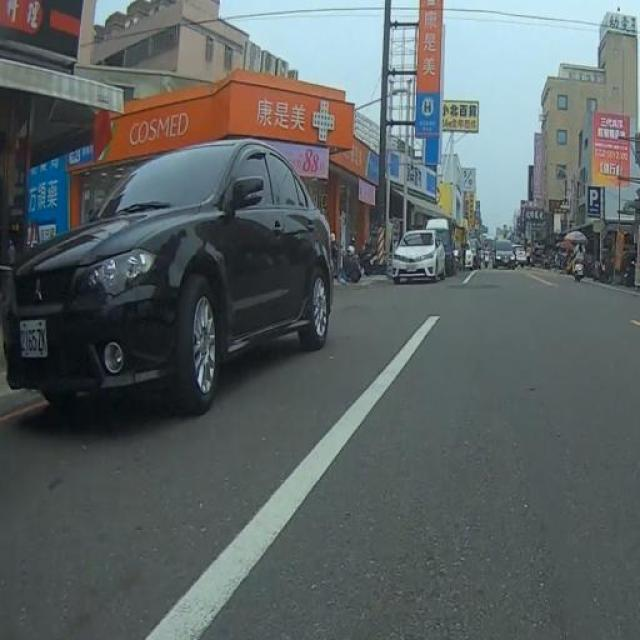Legalparking: (391, 218, 461, 282)
illegalparking: (2, 139, 331, 414)
